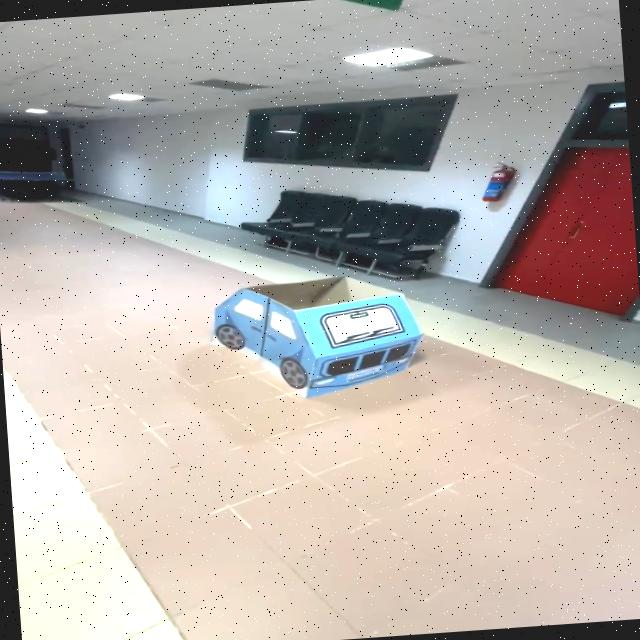blue_car: (198, 263, 440, 414)
